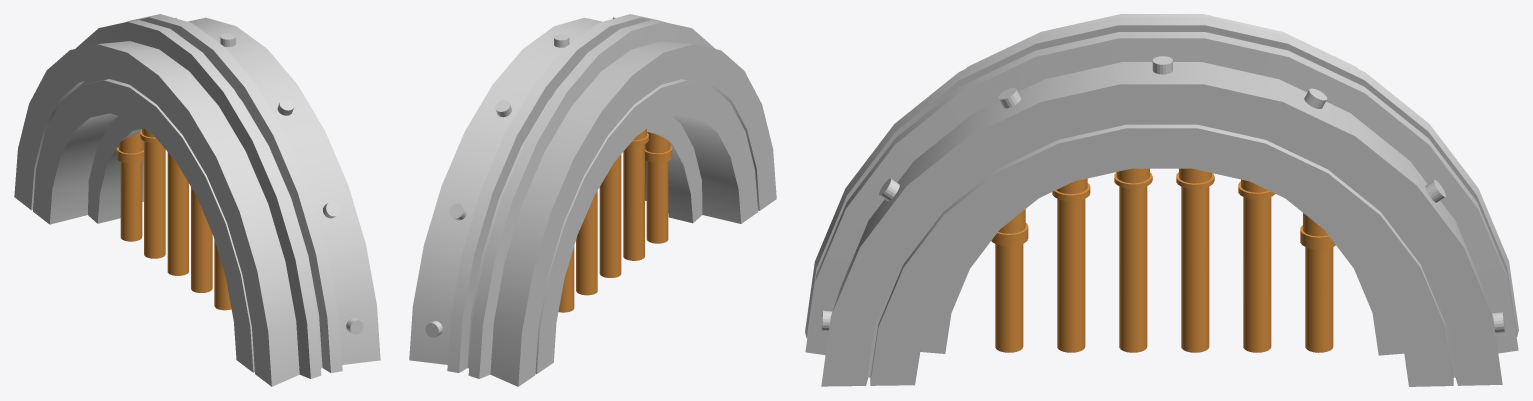
Rendered from SM_Manhole_Sewers.fbx.
The picture shows the model from 3 angles, left to right: view 1: azimuth 30°, elevation 25°; view 2: azimuth 150°, elevation 25°; view 3: azimuth 270°, elevation 25°; orthographic projection. The views are drawn at different scales.
Parts seen in each view (by area): view 1: Cylinder.010; view 2: Cylinder.010; view 3: Cylinder.010.
Part boxes in pixels (x1,y1,x2,y2): Cylinder.010: (14,14,380,386); Cylinder.010: (409,14,776,386); Cylinder.010: (805,14,1518,386).
Size of the model in its own units: 0.6715 by 1.43 by 2.89.
